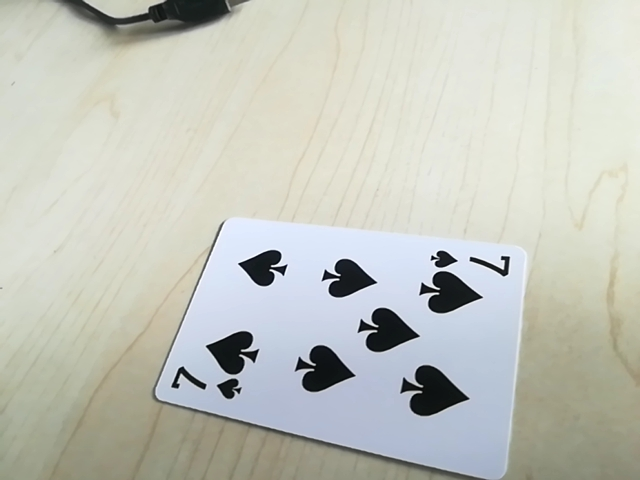ht 7: (426, 246, 514, 278), (163, 368, 244, 402)
